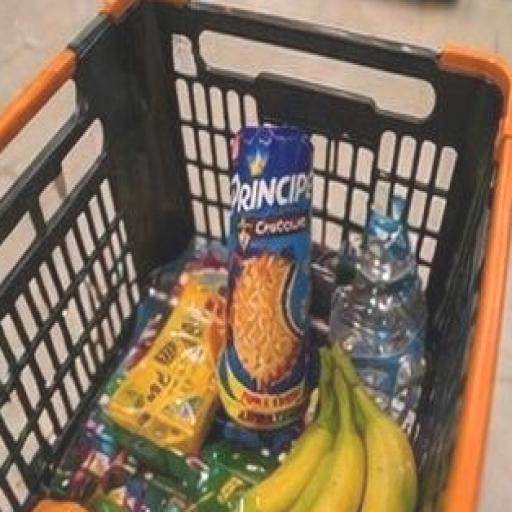prince: (114, 74, 464, 422)
